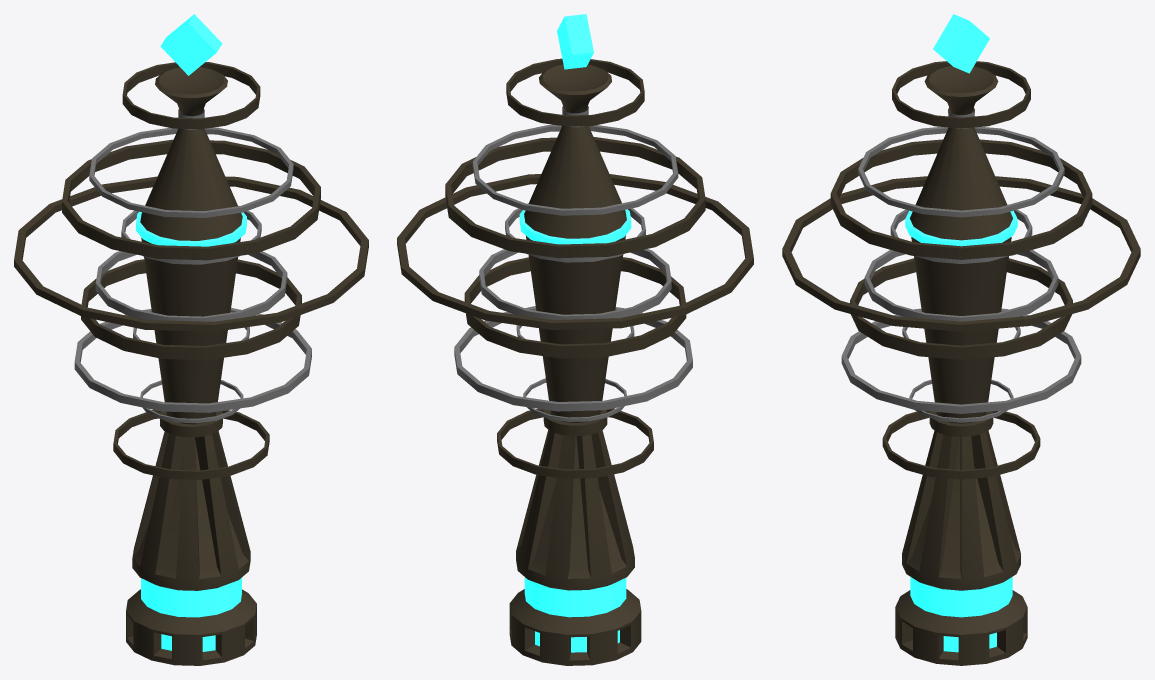
File: Energy Tower.fbx
The picture shows the model from 3 angles, left to right: view 1: azimuth 30°, elevation 25°; view 2: azimuth 150°, elevation 25°; view 3: azimuth 270°, elevation 25°; orthographic projection.
Parts seen in each view (by area): view 1: Energy Tower; view 2: Energy Tower; view 3: Energy Tower.
Boxes of the visible parts, bbox=[...] form: Energy Tower: bbox=[14, 14, 368, 665]; Energy Tower: bbox=[397, 14, 753, 665]; Energy Tower: bbox=[782, 14, 1140, 665].
Bounding box in the file's own units: 749 × 1431 × 749.
